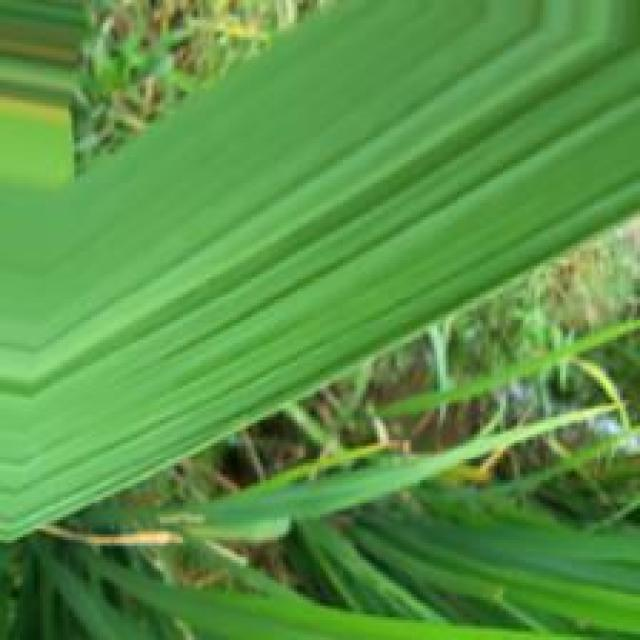HealthyLeaf: (6, 0, 638, 542)
